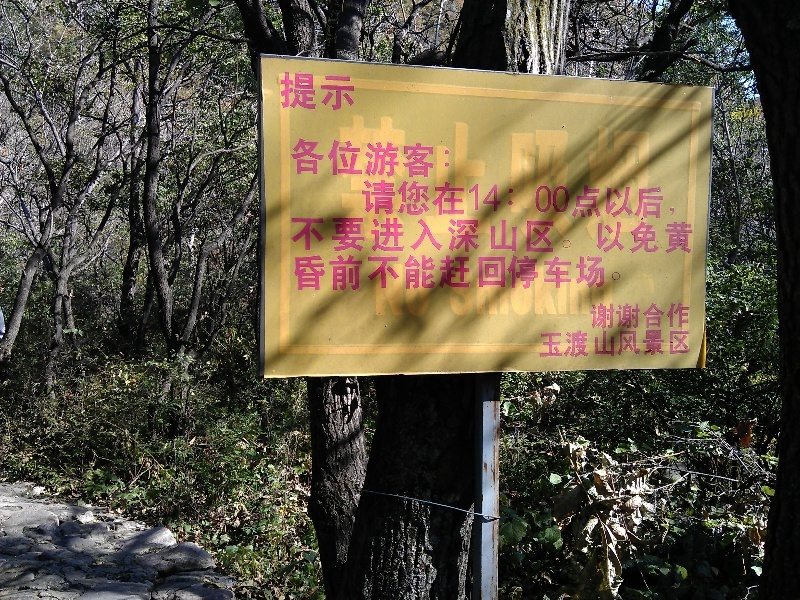text: (353, 115, 368, 241), (369, 115, 384, 241), (385, 115, 400, 241), (401, 115, 416, 241), (417, 115, 432, 241), (433, 115, 448, 241), (449, 115, 464, 241), (465, 115, 480, 241), (481, 115, 496, 241), (497, 115, 512, 241), (513, 115, 528, 241), (529, 115, 544, 241), (545, 115, 560, 241), (561, 115, 576, 241), (577, 115, 592, 241), (593, 115, 608, 241), (609, 115, 624, 241), (625, 115, 640, 241), (341, 115, 352, 241), (641, 115, 650, 241), (449, 265, 464, 331), (465, 265, 480, 331), (481, 265, 496, 331), (497, 265, 512, 331), (513, 265, 528, 331), (529, 265, 544, 331), (545, 265, 560, 331), (561, 265, 576, 331), (577, 265, 592, 331), (593, 265, 608, 331), (385, 265, 400, 322), (401, 265, 416, 322), (417, 265, 432, 322), (373, 265, 384, 322), (305, 138, 320, 178), (321, 138, 336, 178), (337, 138, 352, 178), (353, 138, 368, 178), (369, 138, 384, 178), (385, 138, 400, 178), (401, 138, 416, 178), (417, 138, 432, 178), (433, 138, 448, 178), (289, 72, 304, 112), (305, 72, 320, 112), (321, 72, 336, 112), (337, 72, 352, 112), (369, 179, 384, 219), (385, 179, 400, 219), (401, 179, 416, 219), (417, 179, 432, 219), (433, 179, 448, 219), (449, 179, 464, 219), (465, 179, 480, 219), (481, 179, 496, 219), (497, 179, 512, 219), (513, 179, 528, 219), (529, 179, 544, 219), (545, 179, 560, 219), (561, 179, 576, 219), (577, 179, 592, 219), (593, 179, 608, 219), (609, 179, 624, 219), (625, 179, 640, 219), (641, 179, 656, 219), (657, 179, 672, 219), (305, 216, 320, 254), (321, 216, 336, 254), (337, 216, 352, 254), (353, 216, 368, 254), (369, 216, 384, 254), (385, 216, 400, 254), (401, 216, 416, 254), (417, 216, 432, 254), (433, 216, 448, 254), (449, 216, 464, 254), (465, 216, 480, 254), (481, 216, 496, 254), (497, 216, 512, 254), (513, 216, 528, 254), (529, 216, 544, 254), (545, 216, 560, 254), (561, 216, 576, 254), (577, 216, 592, 254), (593, 216, 608, 254), (609, 216, 624, 254), (625, 216, 640, 254), (641, 216, 656, 254), (657, 216, 672, 254), (673, 216, 688, 254), (305, 255, 320, 292), (321, 255, 336, 292), (337, 255, 352, 292), (353, 255, 368, 292), (369, 255, 384, 292), (385, 255, 400, 292), (401, 255, 416, 292), (417, 255, 432, 292), (433, 255, 448, 292), (449, 255, 464, 292), (465, 255, 480, 292), (481, 255, 496, 292), (497, 255, 512, 292), (513, 255, 528, 292), (529, 255, 544, 292), (545, 255, 560, 292), (561, 255, 576, 292), (577, 255, 592, 292), (593, 255, 608, 292), (609, 255, 624, 292), (291, 138, 304, 178), (291, 216, 304, 254), (291, 255, 304, 292), (545, 329, 560, 360), (561, 329, 576, 360), (577, 329, 592, 360), (593, 329, 608, 360), (609, 329, 624, 360), (625, 329, 640, 360), (641, 329, 656, 360), (657, 329, 672, 360), (673, 329, 688, 360), (593, 301, 608, 329), (609, 301, 624, 329), (625, 301, 640, 329), (641, 301, 656, 329), (657, 301, 672, 329), (673, 301, 688, 329), (609, 265, 614, 331), (281, 72, 288, 112), (361, 179, 368, 219), (444, 265, 448, 331), (673, 179, 678, 219), (689, 216, 694, 254), (449, 138, 453, 178), (539, 329, 544, 360), (689, 329, 693, 360), (589, 301, 592, 329), (353, 72, 355, 112), (689, 301, 690, 329)
